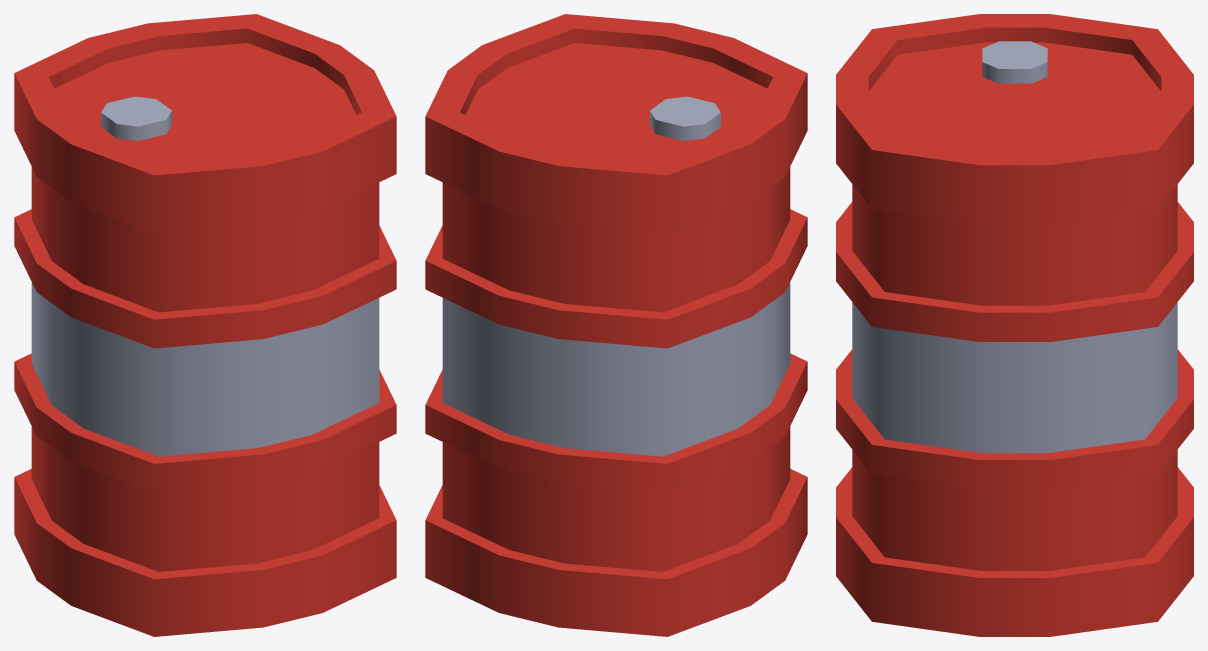
Rendered from barrel.glb.
3 renders of one model, left to right at view 1: azimuth 30°, elevation 25°; view 2: azimuth 150°, elevation 25°; view 3: azimuth 270°, elevation 25°, orthographic. The views are drawn at different scales.
Visible parts, largest first — view 1: barrel; view 2: barrel; view 3: barrel.
Boxes of the visible parts, box(x1,y1,x2,y2) form: barrel: box(14, 14, 396, 636); barrel: box(425, 14, 807, 636); barrel: box(836, 14, 1193, 636).
Bounding box in the file's own units: 0.6875 × 1 × 0.6875.
